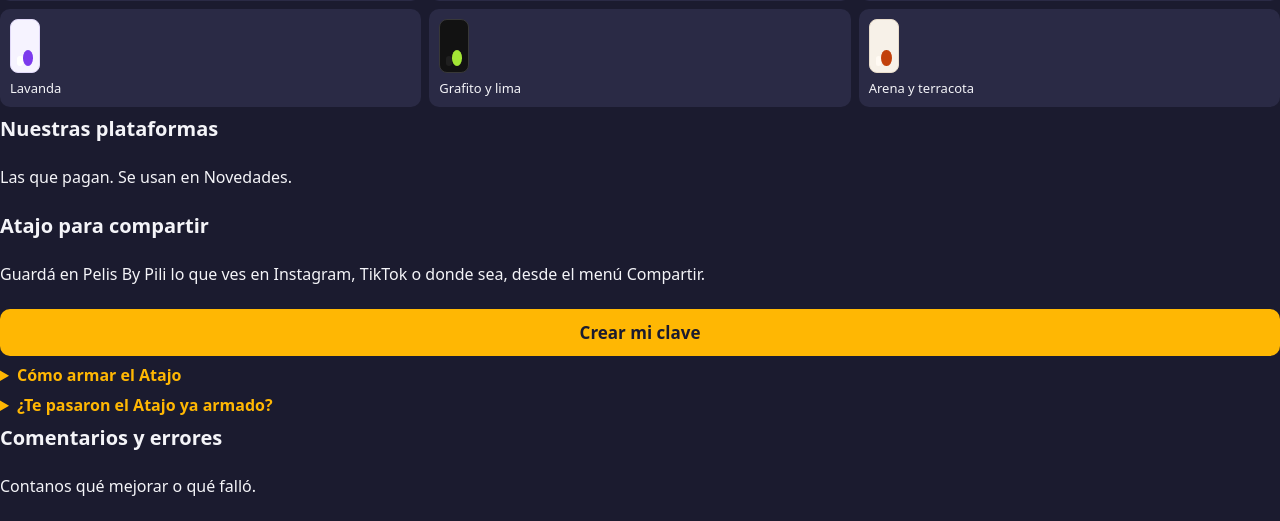
Test: a key that cannot be created says so
The width and height of the screenshot is (1280, 521).
(page scrolled)
Click the button "Crear mi clave".
click(640, 332)  # box [0, 309, 1279, 356]
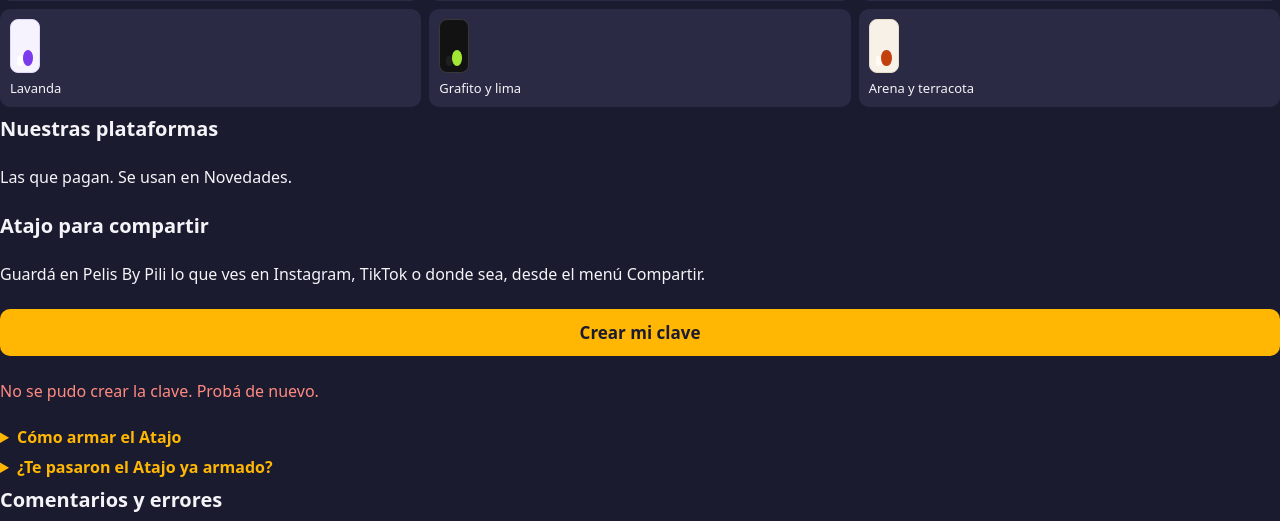
Check: the text "No se pudo crear la clave. Probá de nuevo." is shown, box [0, 380, 319, 402]
